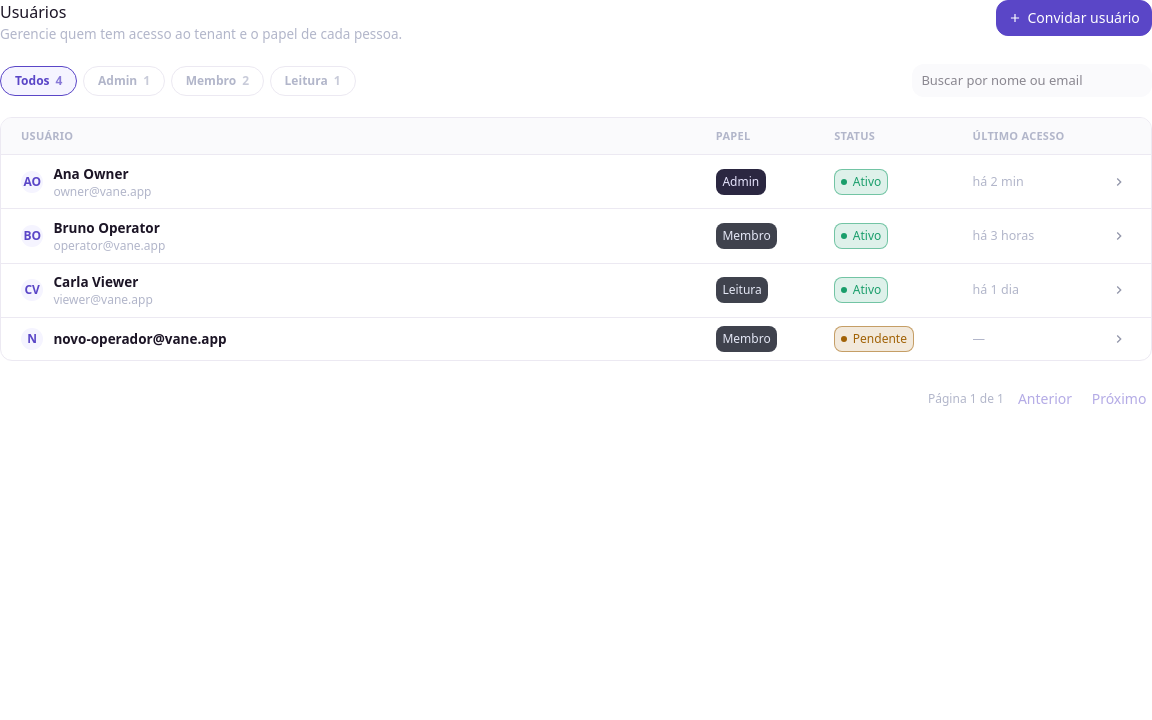
Test case: AdminsPage › clicking a row opens the detail drawer with role and last access (USRPG-06)
The width and height of the screenshot is (1152, 720).
Expected: the text "owner@vane.app" is shown, [53,184,152,200]
Click the text "owner@vane.app" at (576, 182), box [1,155,1151,209]
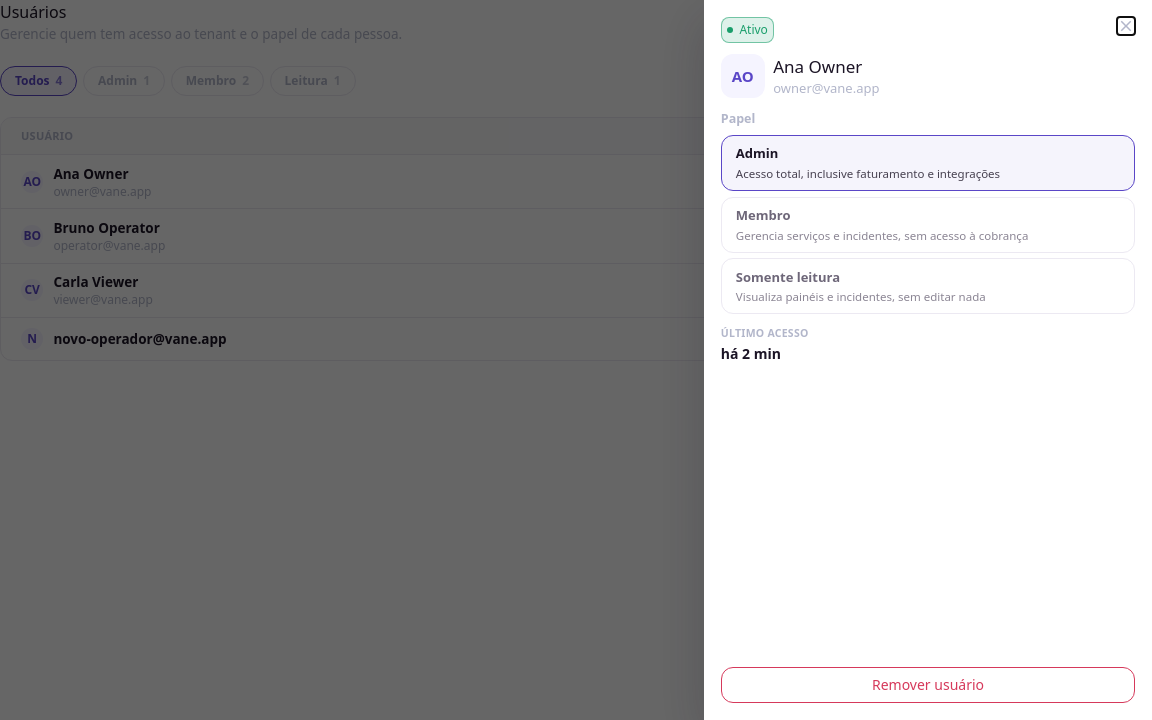
Expected: the text "owner@vane.app" is shown, [773,80,880,99]
Expected: the text "há 2 min" is shown, [721,344,781,363]
